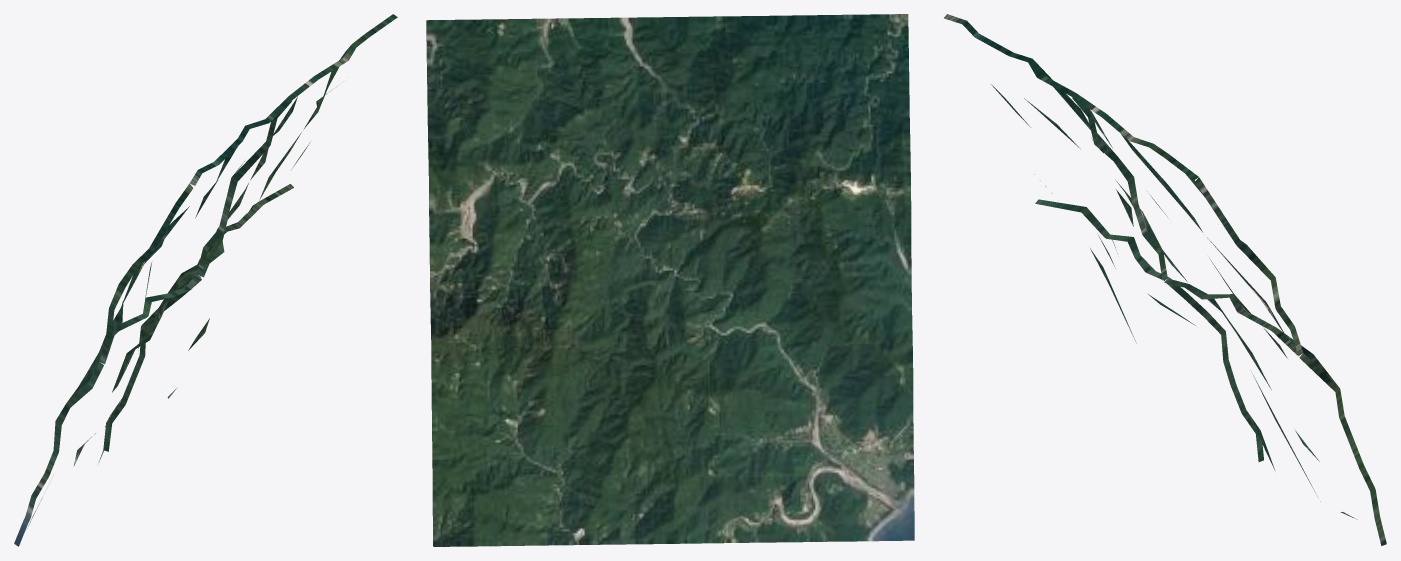
3 renders of one model, left to right at view 1: azimuth 30°, elevation 25°; view 2: azimuth 150°, elevation 25°; view 3: azimuth 270°, elevation 25°, orthographic. The views are drawn at different scales.
Size of the model in its own units: 19471 by 18165 by 17073.
1 material, 1 textured.
